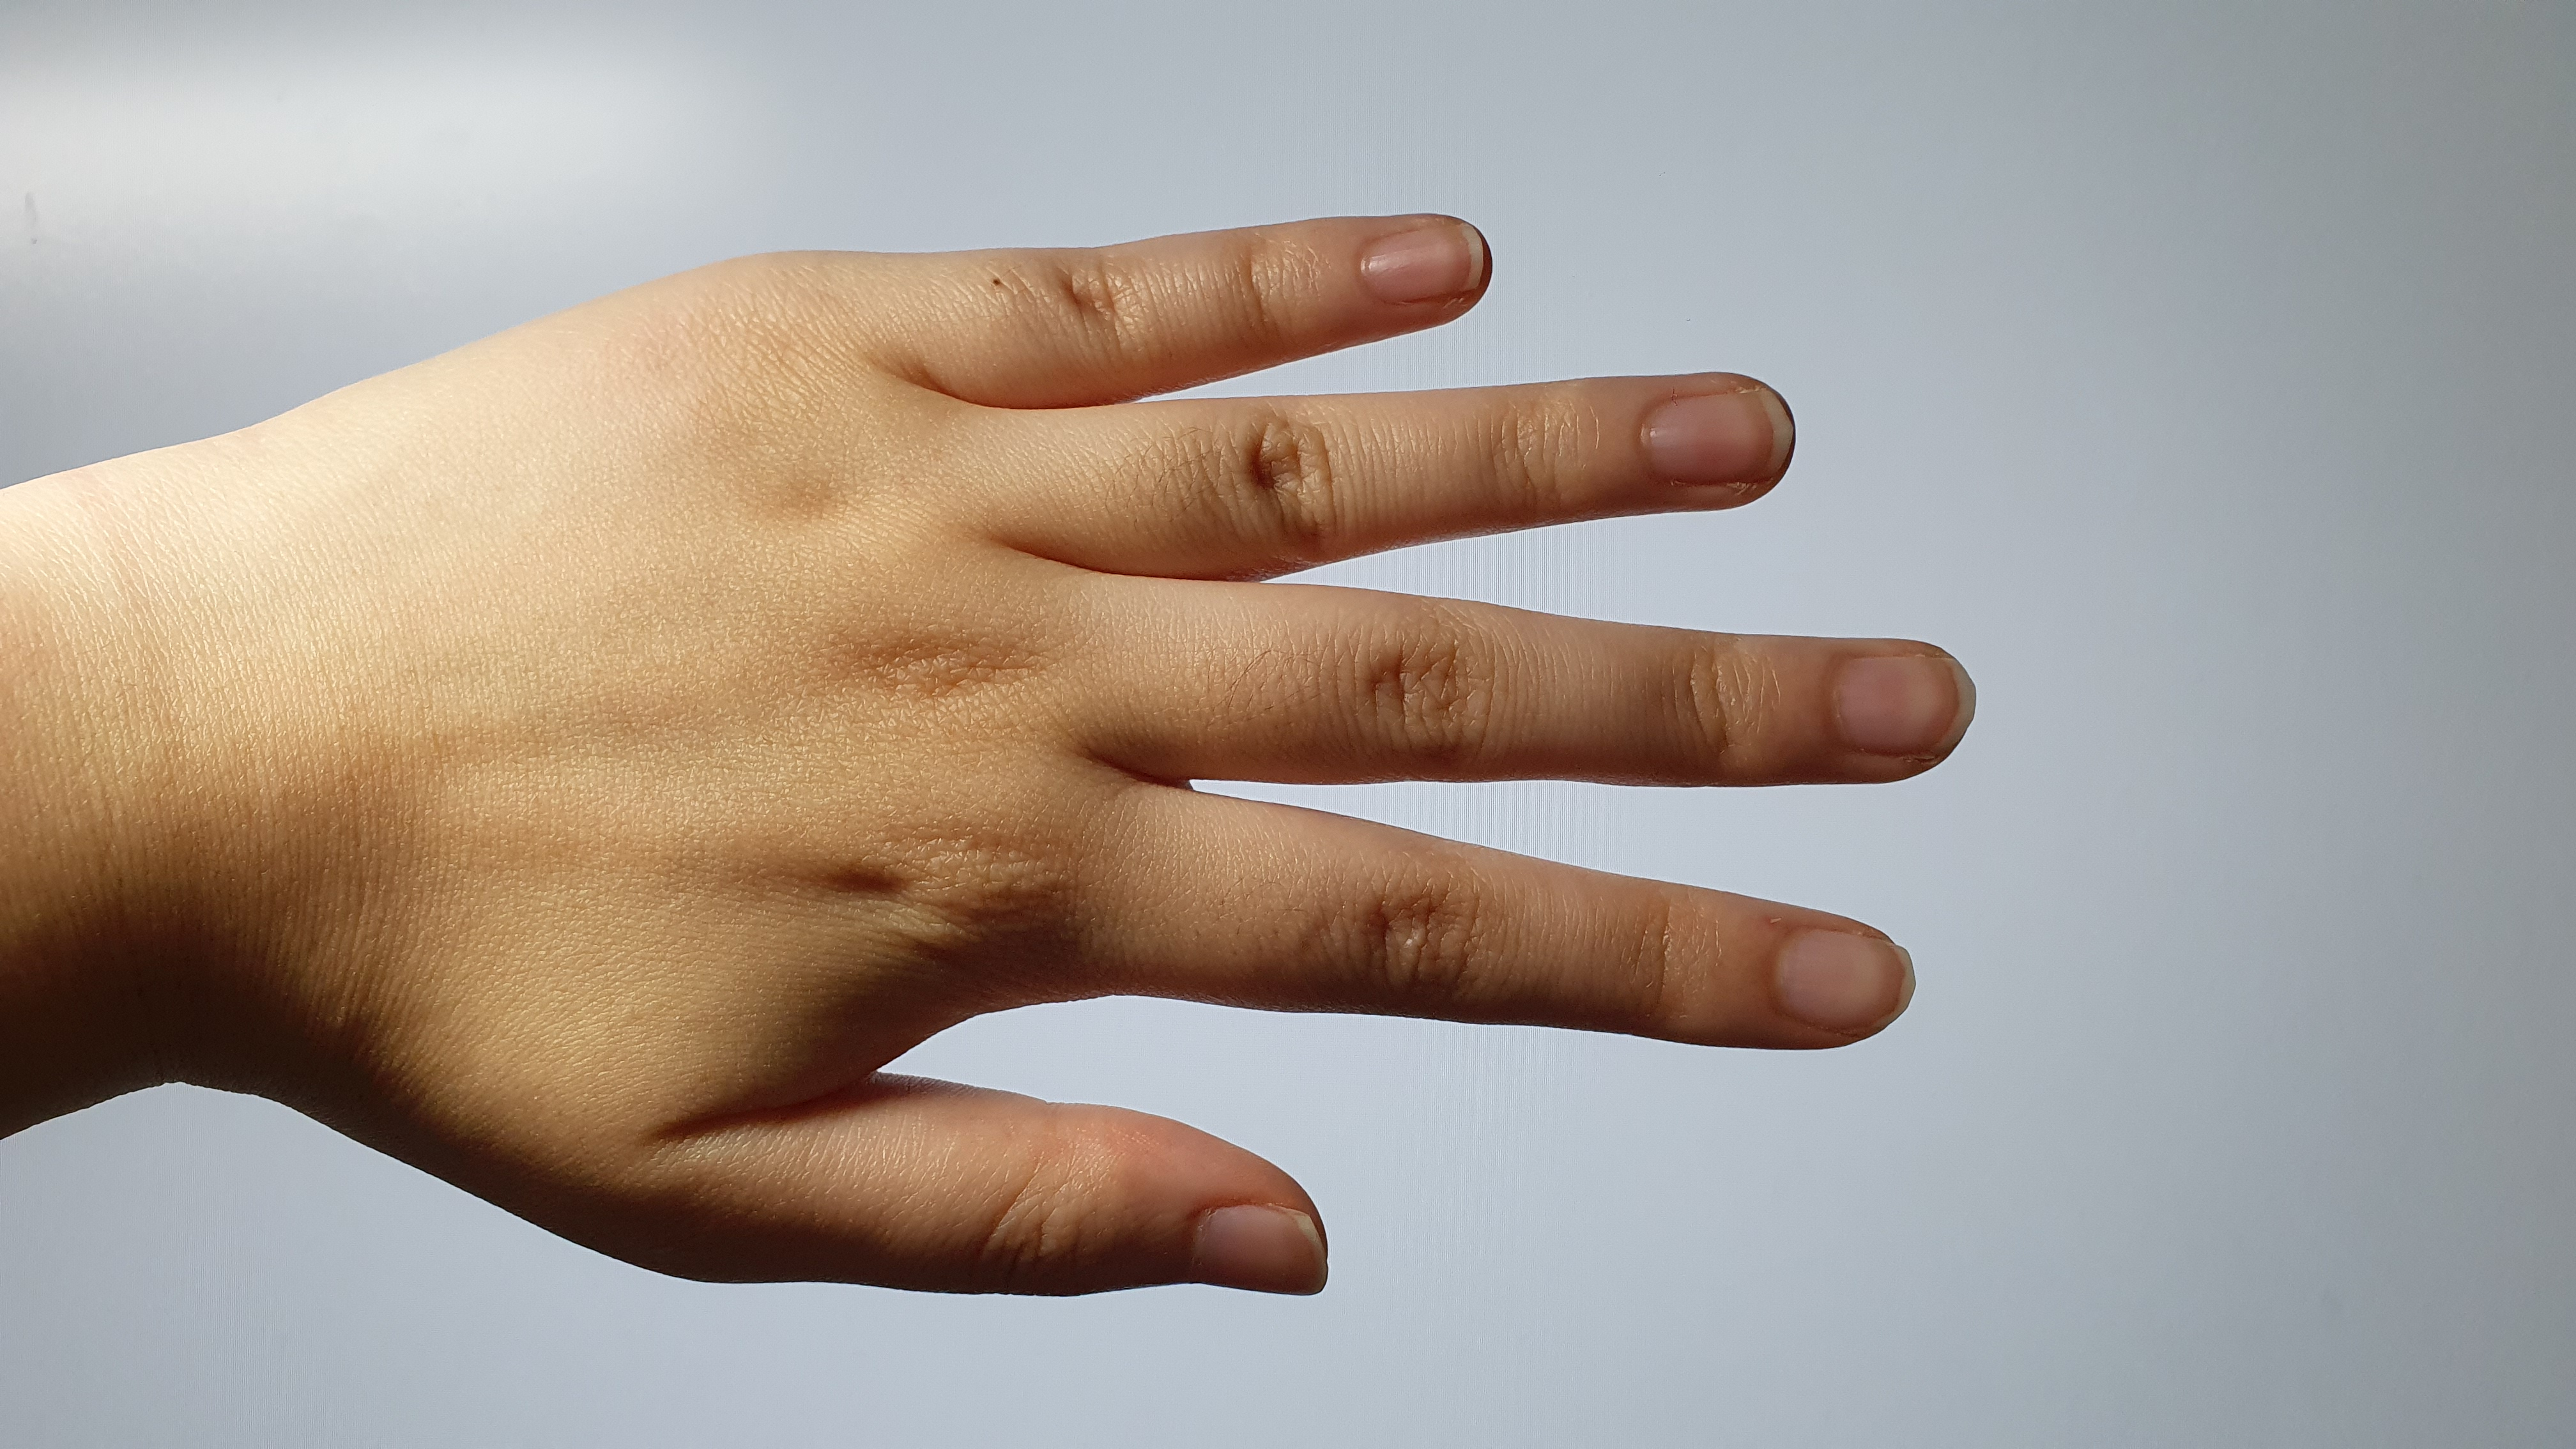backhand: (203, 320, 1062, 1037)
hand: (182, 212, 1992, 1279)
index finger: (1079, 801, 1932, 1049)
middle finger: (1134, 594, 1980, 777)
pinky: (809, 209, 1514, 379)
ring finger: (1049, 370, 1824, 589)
thumb: (642, 1049, 1338, 1295)
